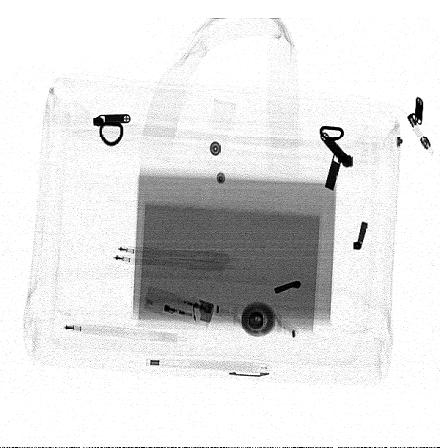Lighter: (144, 285, 214, 327)
